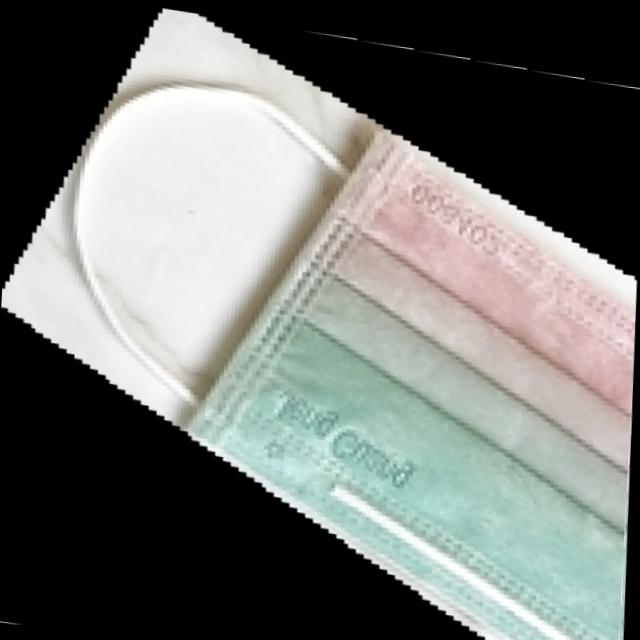others: (0, 4, 638, 640)
